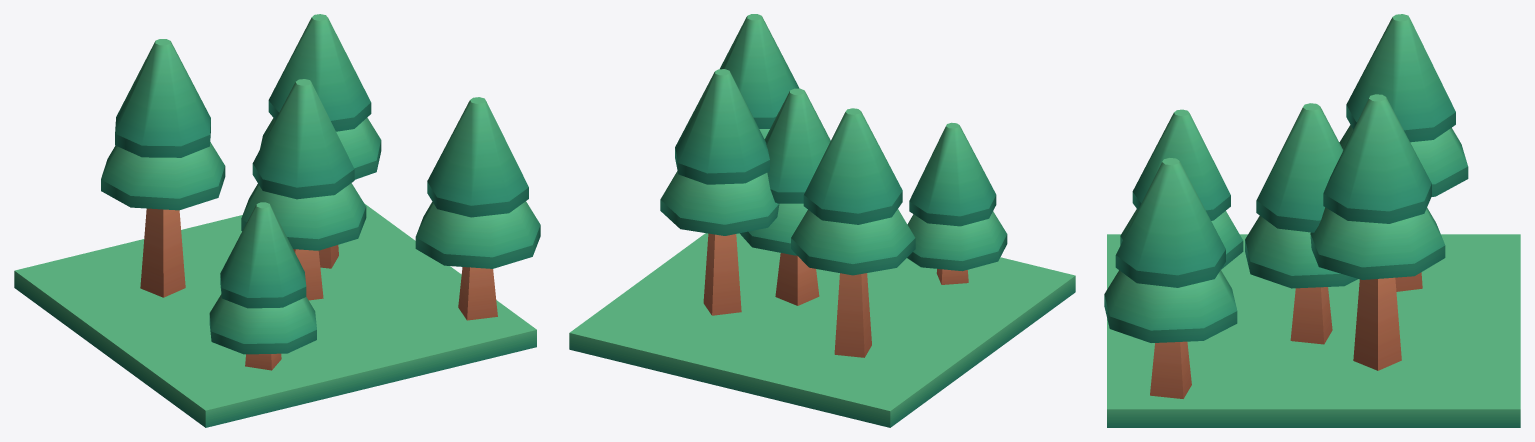
File: grass-trees-tall.glb
3 renders of one model, left to right at view 1: azimuth 30°, elevation 25°; view 2: azimuth 150°, elevation 25°; view 3: azimuth 270°, elevation 25°, orthographic. The views are drawn at different scales.
Parts seen in each view (by area): view 1: grass-trees-tall; view 2: grass-trees-tall; view 3: grass-trees-tall.
Boxes of the visible parts, left/top/right/bottom form: grass-trees-tall: left=14, top=14, right=540, bottom=427; grass-trees-tall: left=569, top=14, right=1075, bottom=427; grass-trees-tall: left=1104, top=14, right=1520, bottom=427.
Bounding box in the file's own units: 1.07 × 0.7597 × 1.01.
Materials: 1 (1 with a texture image).
